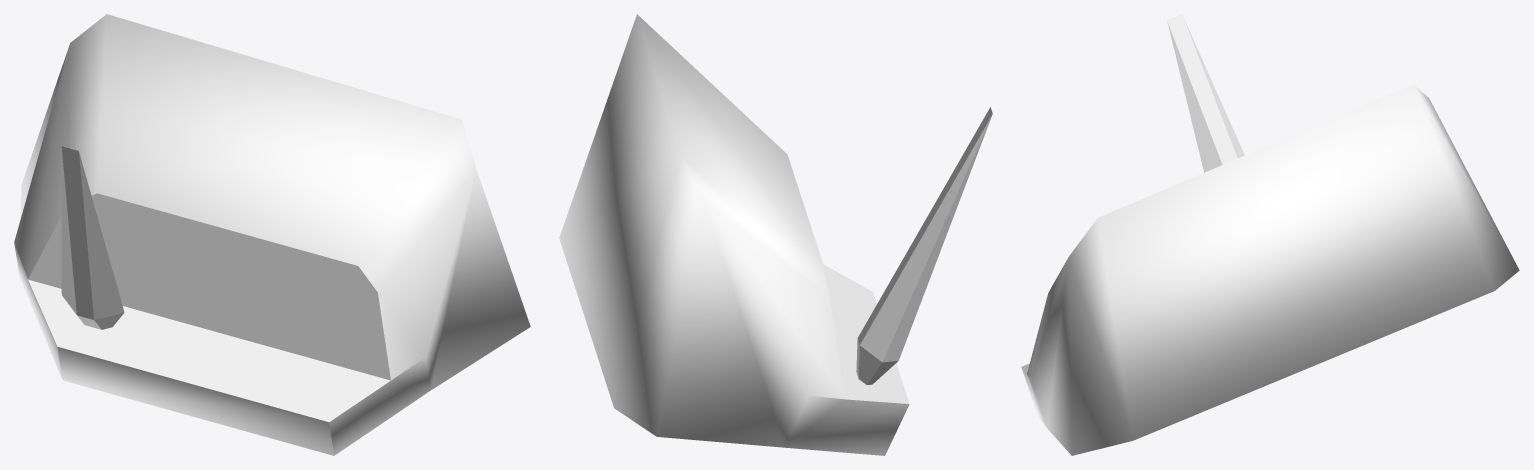
The model's file is ama_collectable_scrap_10.glb.
The picture shows the model from 3 angles, left to right: view 1: azimuth 30°, elevation 25°; view 2: azimuth 150°, elevation 25°; view 3: azimuth 270°, elevation 25°; orthographic projection. The views are drawn at different scales.
Visible parts, largest first — view 1: shipScrapPart_10; view 2: shipScrapPart_10; view 3: shipScrapPart_10.
Part boxes in pixels (box(x1,y1,x2,y2)): shipScrapPart_10: box(14, 14, 530, 455); shipScrapPart_10: box(559, 14, 992, 455); shipScrapPart_10: box(1021, 14, 1519, 455).
Size of the model in its own units: 0.6493 by 0.4706 by 0.679.
Materials: 1 (1 with a texture image).
